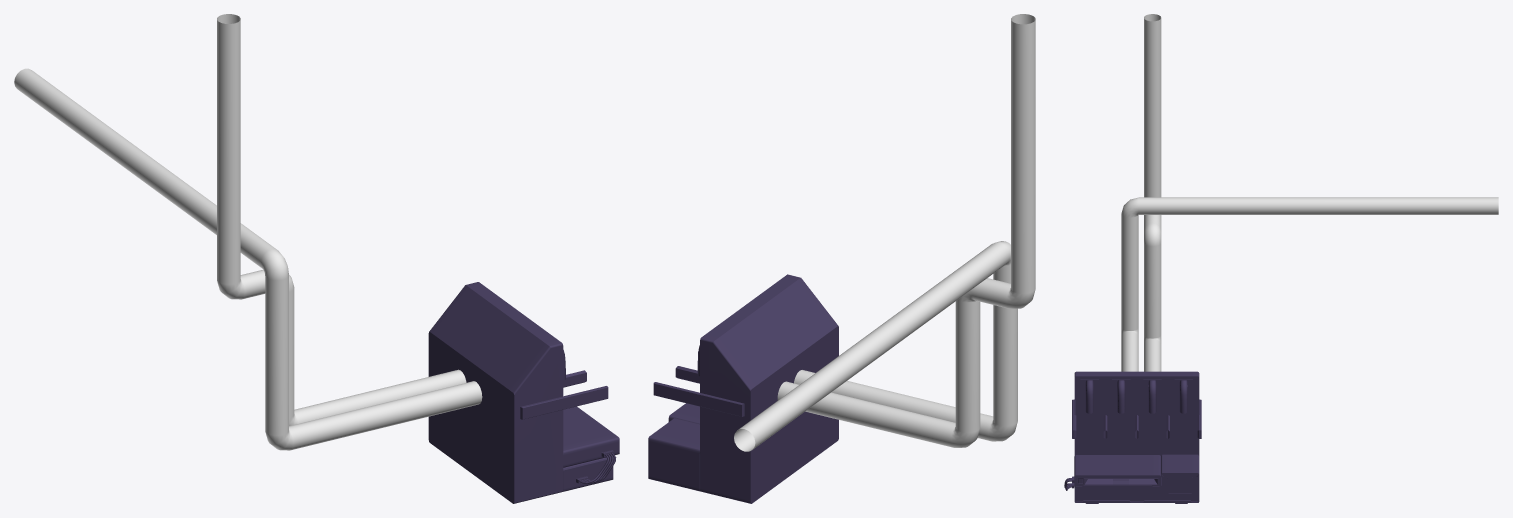
The model's file is progresorBase-model.fbx.
The picture shows the model from 3 angles, left to right: view 1: azimuth 30°, elevation 25°; view 2: azimuth 150°, elevation 25°; view 3: azimuth 270°, elevation 25°; orthographic projection. The views are drawn at different scales.
Parts seen in each view (by area): view 1: progresor piping, progresor casing, progresor, reader casing, progresor assembling; view 2: progresor piping, progresor casing, progresor, progresor assembling, reader casing; view 3: progresor piping, progresor, progresor casing, reader casing, progresor assembling, progresor reader, progresor vent.
Boxes of the visible parts, x1=… form: progresor piping: x1=14, y1=14, x2=482, y2=450; progresor casing: x1=428, y1=282, x2=613, y2=503; progresor: x1=429, y1=333, x2=513, y2=502; reader casing: x1=563, y1=406, x2=619, y2=467; progresor assembling: x1=520, y1=350, x2=608, y2=419; progresor piping: x1=734, y1=14, x2=1035, y2=451; progresor casing: x1=648, y1=274, x2=838, y2=503; progresor: x1=751, y1=327, x2=838, y2=502; progresor assembling: x1=653, y1=345, x2=744, y2=416; reader casing: x1=668, y1=403, x2=699, y2=424; progresor piping: x1=1121, y1=14, x2=1498, y2=371; progresor: x1=1075, y1=377, x2=1198, y2=501; progresor casing: x1=1074, y1=371, x2=1199, y2=503; reader casing: x1=1074, y1=455, x2=1160, y2=487; progresor assembling: x1=1072, y1=379, x2=1201, y2=438; progresor reader: x1=1075, y1=476, x2=1159, y2=486; progresor vent: x1=1167, y1=477, x2=1193, y2=495.
Size of the model in its own units: 0.6676 by 0.9284 by 0.987.
